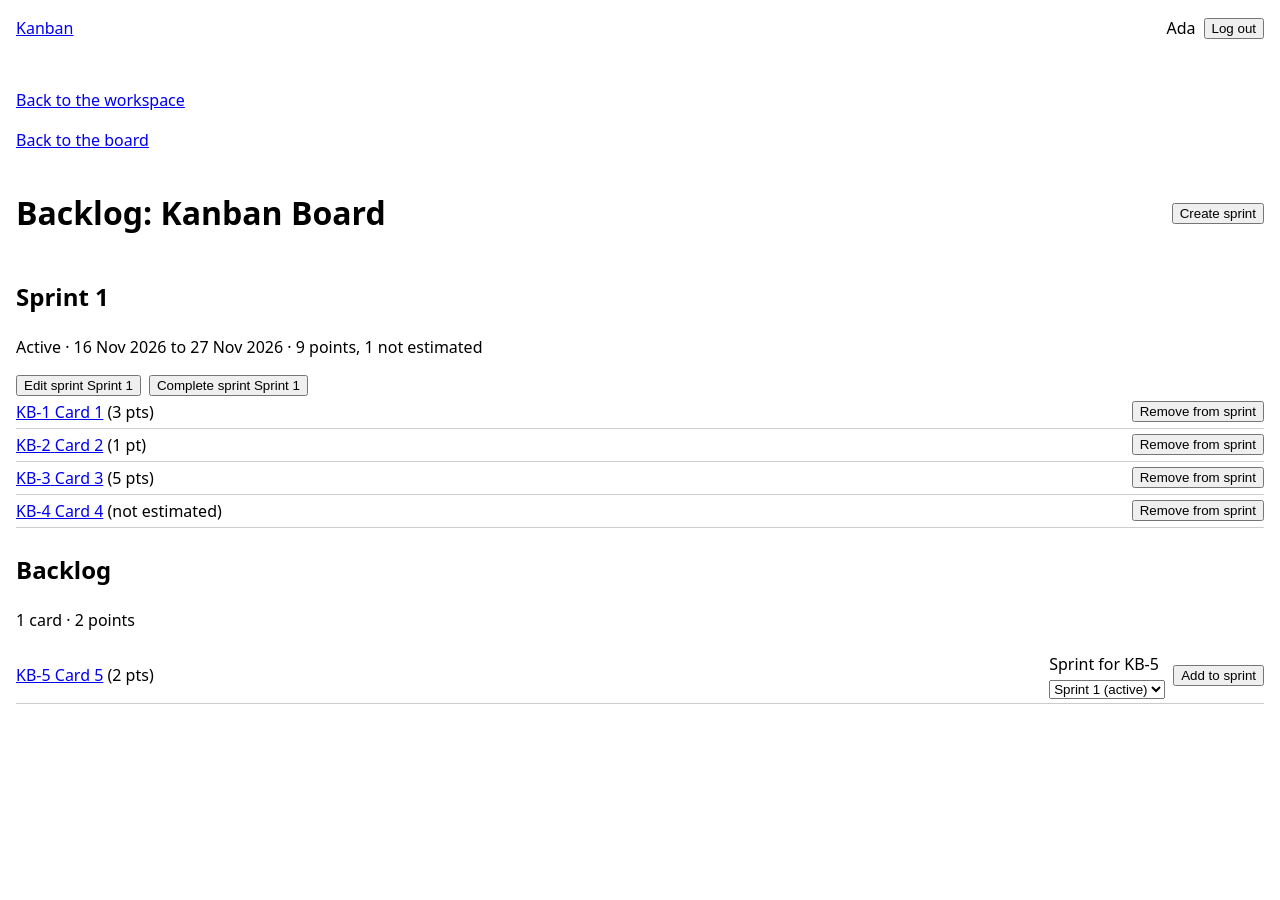
complete a sprint › confirms with what will happen, closes, shows a summary and updates the backlog
Click the button "Complete sprint Sprint 1": (228, 385) [149,375,308,396]
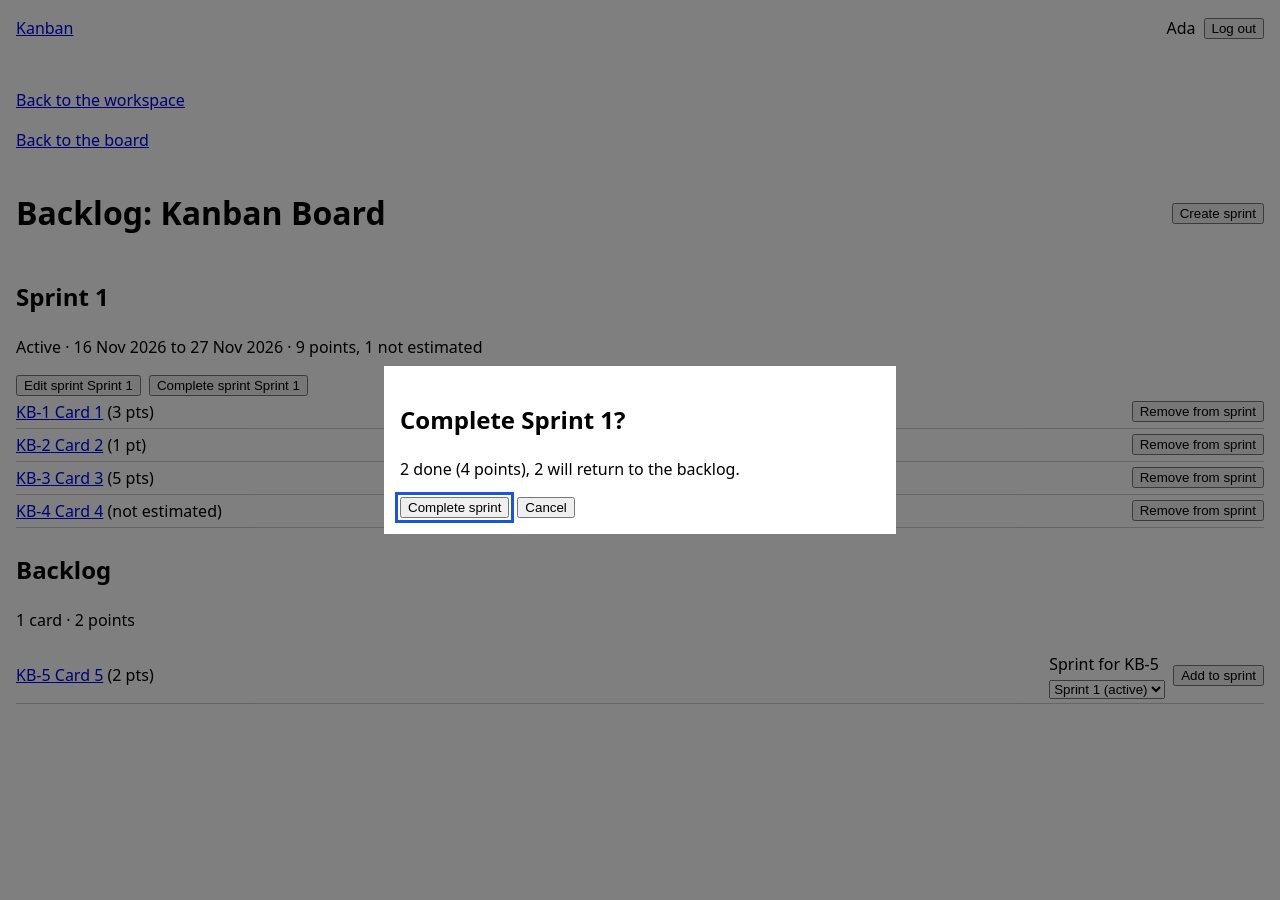
Expected: the text "2 done (4 points), 2 will return to the backlog." is shown, [400,458,740,480]
Click the button "Complete sprint": (455, 508) [400,497,509,518]
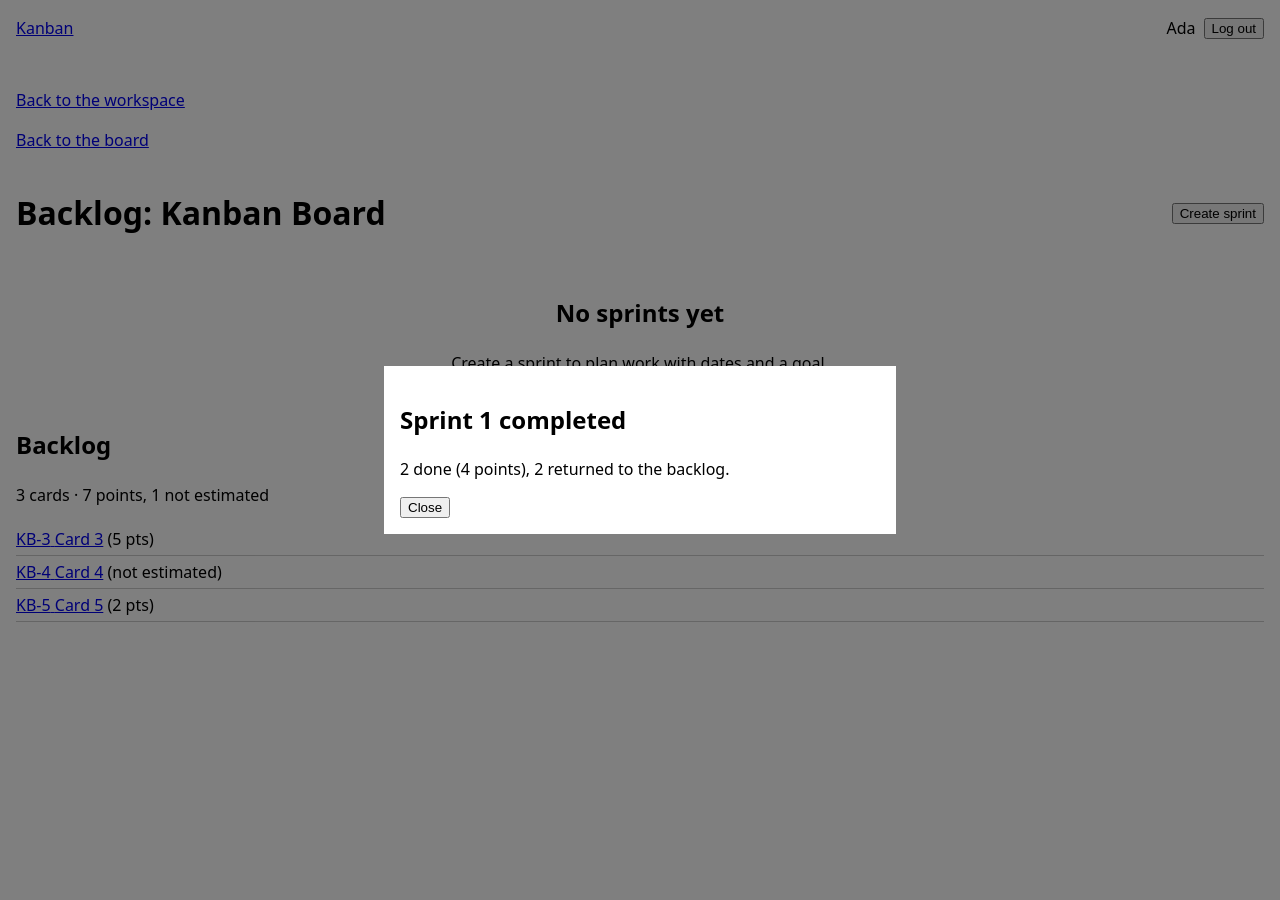
Expected: the message reads "2 done (4 points), 2 returned to the backlog.", [400,458,730,480]
Click the button "Close": (425, 508) [400,497,450,518]
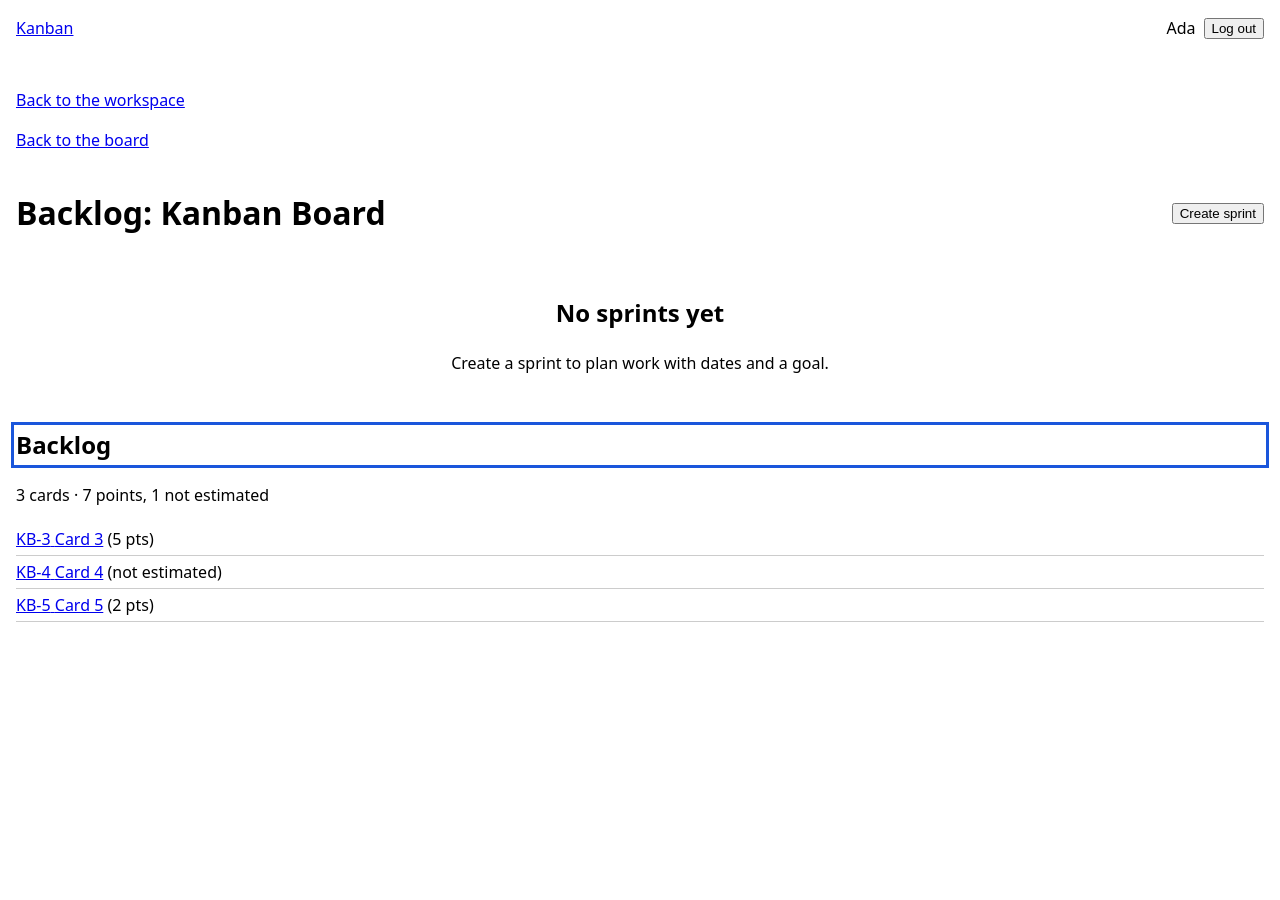
Expected: the link "KB-3 Card 3" is shown, [16,528,103,550]
Expected: the dialog is gone
